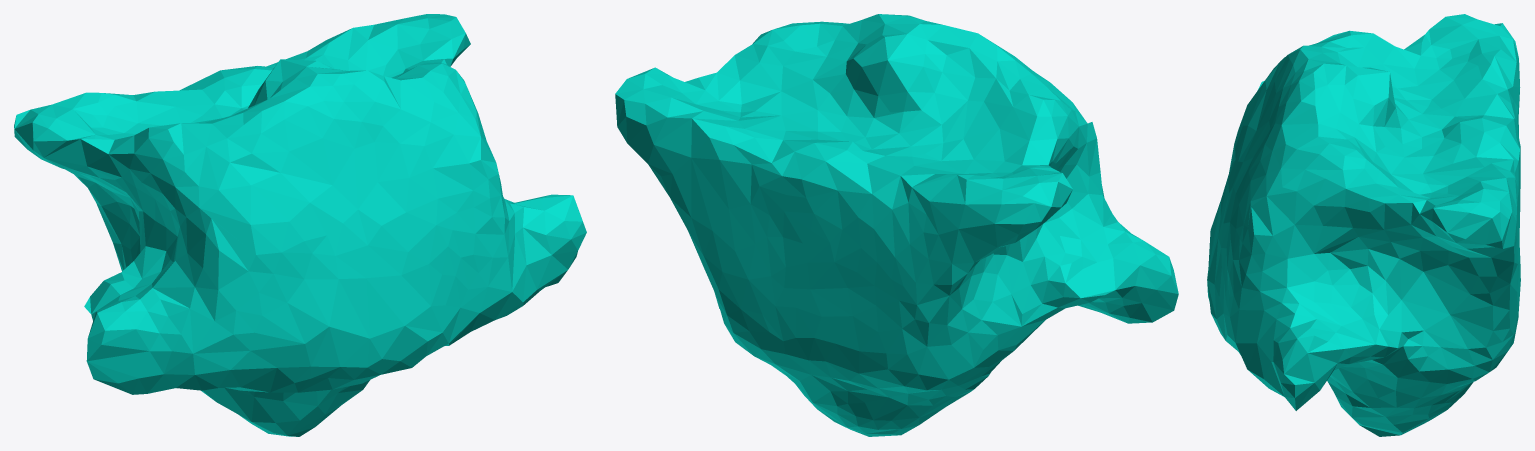
The model's file is 28-Hy-hypothalamus-('0.0000', '1.0000', '0.9216').obj.
3 renders of one model, left to right at view 1: azimuth 30°, elevation 25°; view 2: azimuth 150°, elevation 25°; view 3: azimuth 270°, elevation 25°, orthographic. The views are drawn at different scales.
Bounding box in the file's own units: 89.88 × 67.09 × 51.94.
